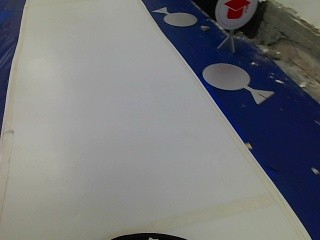school: (212, 0, 257, 29)
